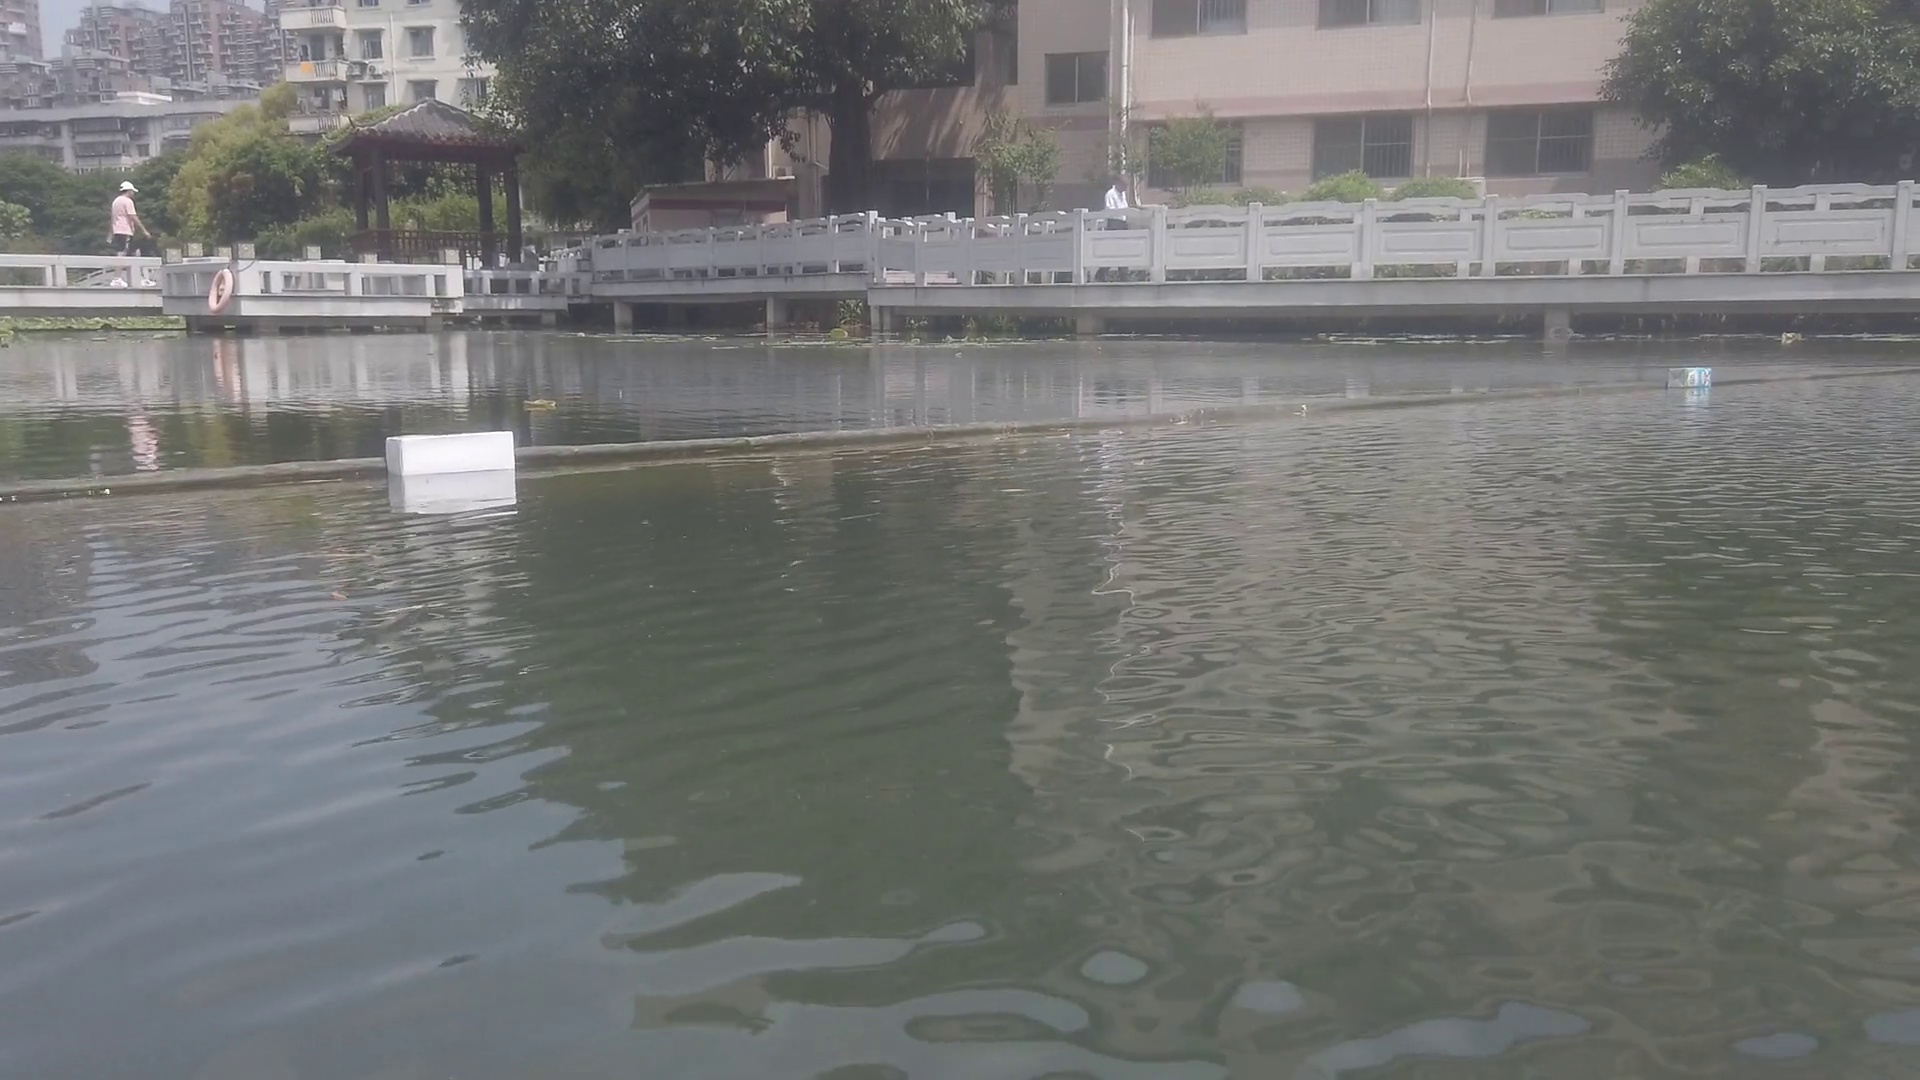carton: (386, 433, 527, 471), (1667, 367, 1710, 392)
